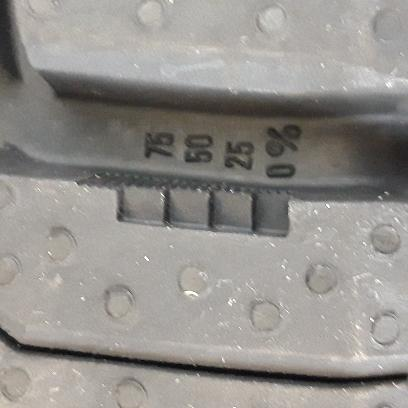temoin:100: (75, 169, 295, 242)
